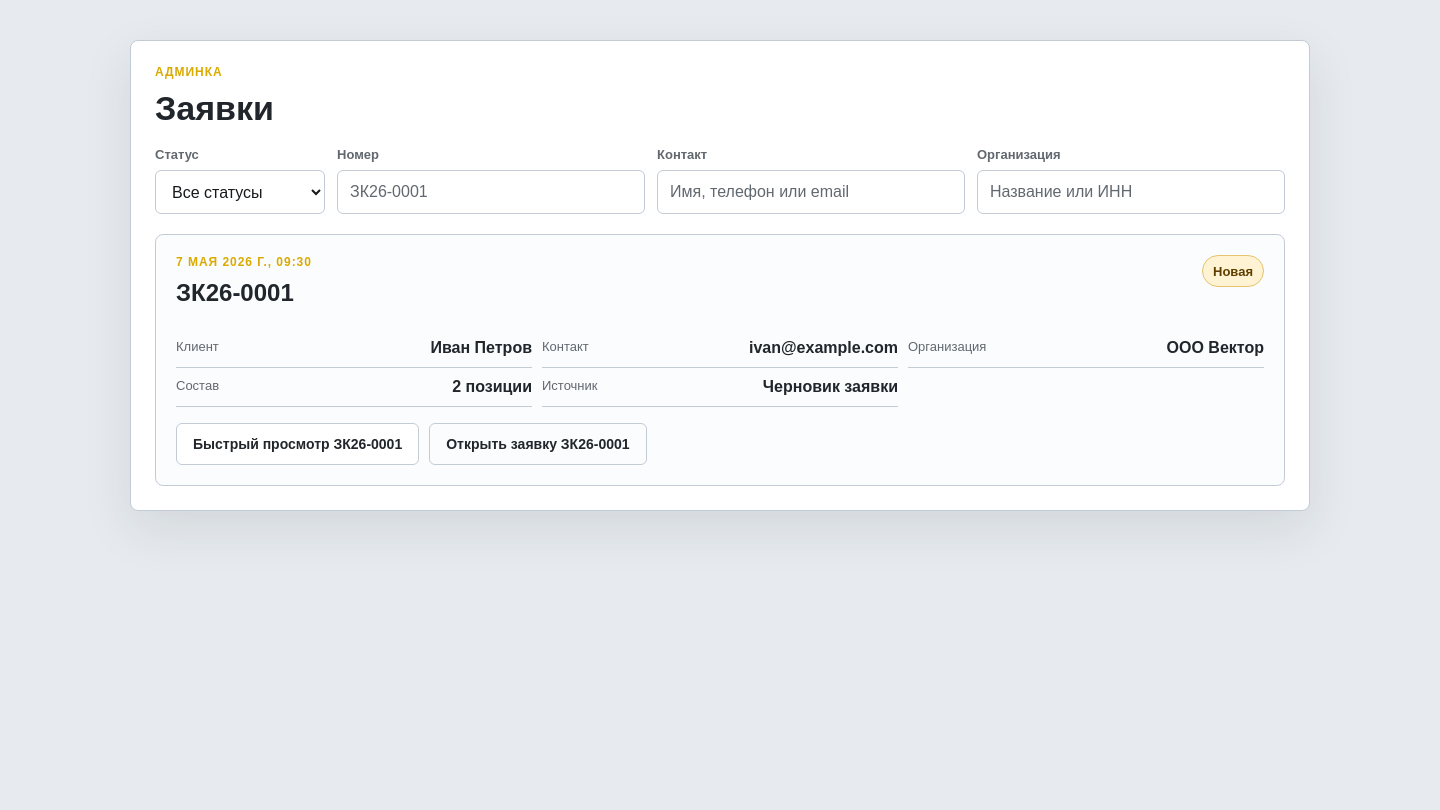
Test: Admin RequestsPageClient › loads admin request detail into a quick preview drawer without mutation controls
Click the button "Быстрый просмотр ЗК26-0001" at (298, 444), box [176, 423, 419, 465]
(page scrolled)
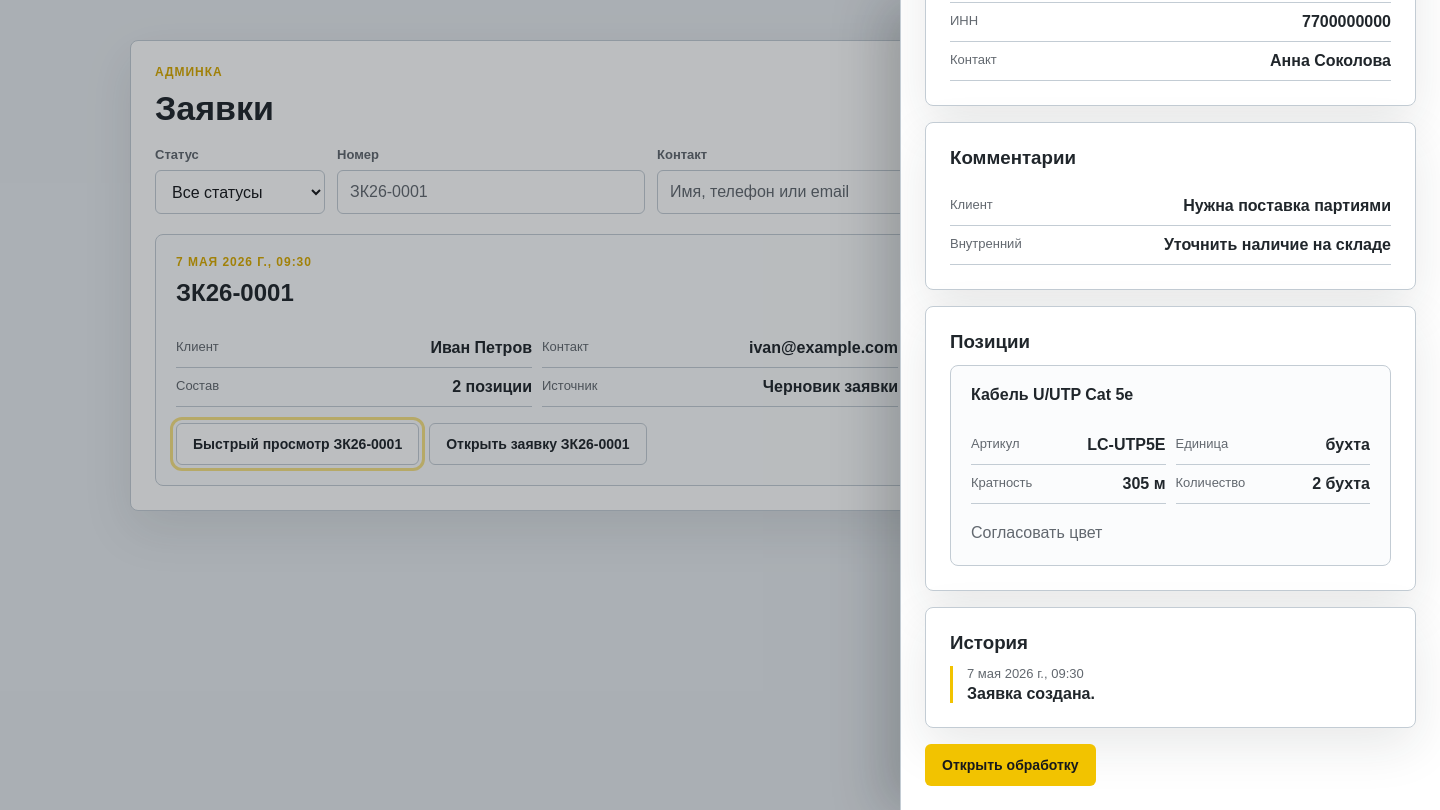
Now the text "7700000000" is shown, box [1302, 13, 1391, 31]
Now the text "Уточнить наличие на складе" is shown, box [1164, 236, 1391, 254]
Now the heading "Кабель U/UTP Cat 5e" is shown, box [971, 386, 1133, 403]
